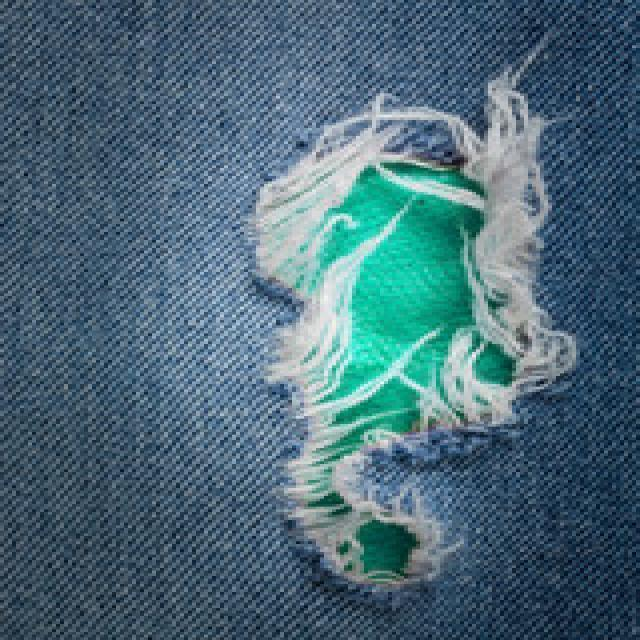Hole: (256, 72, 577, 588)
